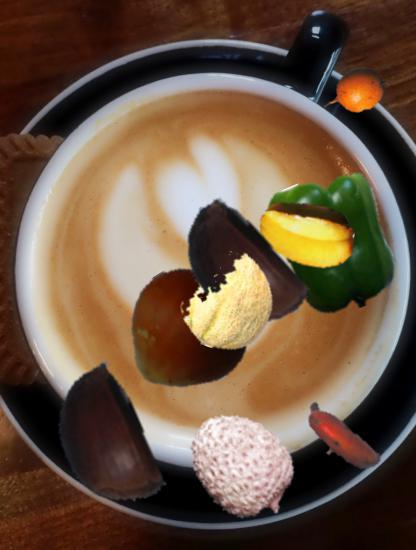Banana: (293, 394, 385, 486)
Cantaloupe: (177, 248, 281, 352)
Carambula: (257, 186, 354, 283)
Chestnut: (30, 367, 176, 513), (167, 198, 309, 340)
Granadilla: (321, 59, 387, 125)
Lychee: (184, 406, 304, 526)
Nut: (120, 271, 243, 394)
Pepper: (267, 173, 406, 312)
